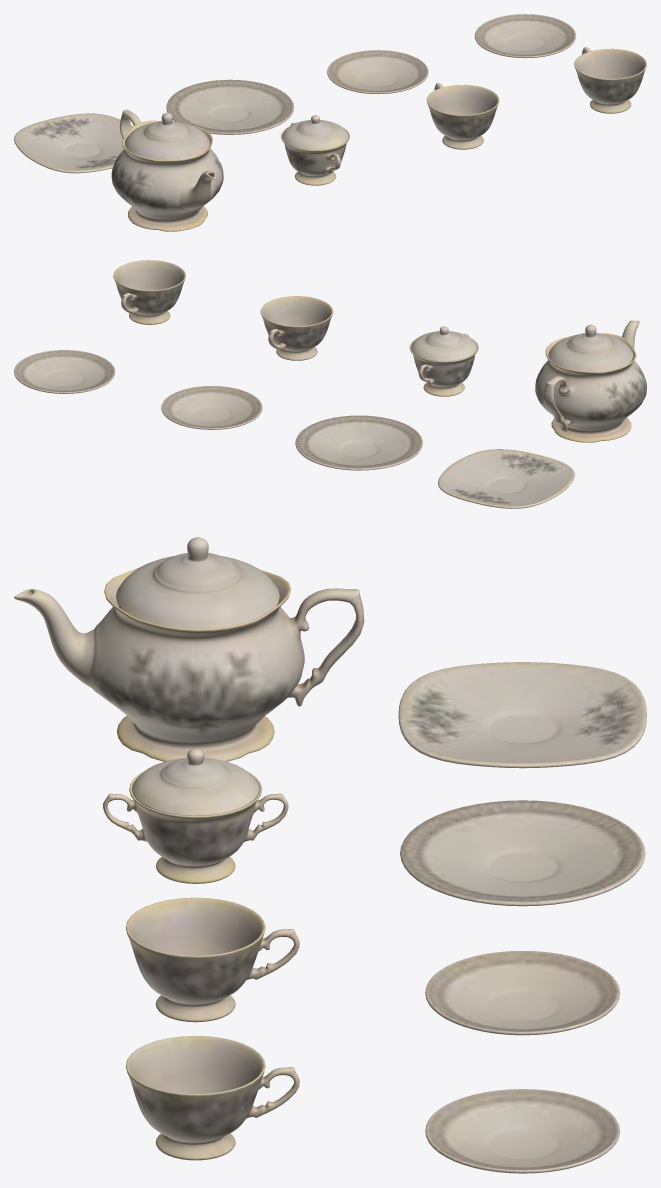
Rendered from tea_set.glb.
The picture shows the model from 3 angles, top to bottom: view 1: azimuth 30°, elevation 25°; view 2: azimuth 150°, elevation 25°; view 3: azimuth 270°, elevation 25°; orthographic projection. The views are drawn at different scales.
Parts seen in each view (by area): view 1: tea_set_01_teapot_01, tea_set_01_plate_large_circular_03, tea_set_01_plate_large_square_01, tea_set_01_cup_small_01, tea_set_01_cup_small_02, tea_set_01_saucer_circular_03, tea_set_01_saucer_circular_04, tea_set_01_teapot_01_lid, tea_set_01_sugar_cup_01, tea_set_01_sugar_cup_01_lid; view 2: tea_set_01_teapot_01, tea_set_01_plate_large_square_01, tea_set_01_plate_large_circular_03, tea_set_01_cup_small_01, tea_set_01_cup_small_02, tea_set_01_saucer_circular_04, tea_set_01_saucer_circular_03, tea_set_01_teapot_01_lid, tea_set_01_sugar_cup_01, tea_set_01_sugar_cup_01_lid; view 3: tea_set_01_teapot_01, tea_set_01_plate_large_square_01, tea_set_01_plate_large_circular_03, tea_set_01_cup_small_01, tea_set_01_cup_small_02, tea_set_01_saucer_circular_03, tea_set_01_saucer_circular_04, tea_set_01_teapot_01_lid, tea_set_01_sugar_cup_01, tea_set_01_sugar_cup_01_lid.
Part boxes in pixels (x1,y1,x2,y2): tea_set_01_teapot_01: (111,109,223,231); tea_set_01_plate_large_circular_03: (166,79,294,134); tea_set_01_plate_large_square_01: (14,113,133,173); tea_set_01_cup_small_01: (426,83,499,149); tea_set_01_cup_small_02: (574,47,646,113); tea_set_01_saucer_circular_03: (474,14,576,58); tea_set_01_saucer_circular_04: (327,50,428,94); tea_set_01_teapot_01_lid: (125,112,209,160); tea_set_01_sugar_cup_01: (281,122,349,185); tea_set_01_sugar_cup_01_lid: (282,115,348,150); tea_set_01_teapot_01: (535,320,646,442); tea_set_01_plate_large_square_01: (438,449,574,508); tea_set_01_plate_large_circular_03: (295,415,422,470); tea_set_01_cup_small_01: (260,296,333,360); tea_set_01_cup_small_02: (113,260,185,324); tea_set_01_saucer_circular_04: (161,386,262,429); tea_set_01_saucer_circular_03: (14,350,115,393); tea_set_01_teapot_01_lid: (548,324,633,371); tea_set_01_sugar_cup_01: (409,333,478,396); tea_set_01_sugar_cup_01_lid: (411,326,477,361); tea_set_01_teapot_01: (14,568,364,761); tea_set_01_plate_large_square_01: (398,662,646,768); tea_set_01_plate_large_circular_03: (400,800,645,906); tea_set_01_cup_small_01: (125,897,299,1022); tea_set_01_cup_small_02: (126,1036,299,1160); tea_set_01_saucer_circular_03: (425,1089,620,1173); tea_set_01_saucer_circular_04: (425,951,620,1035); tea_set_01_teapot_01_lid: (116,537,279,628); tea_set_01_sugar_cup_01: (103,771,288,883); tea_set_01_sugar_cup_01_lid: (131,748,259,815).
Bounding box in the file's own units: 0.9185 × 0.165 × 0.4839.
1 material, 1 textured.
